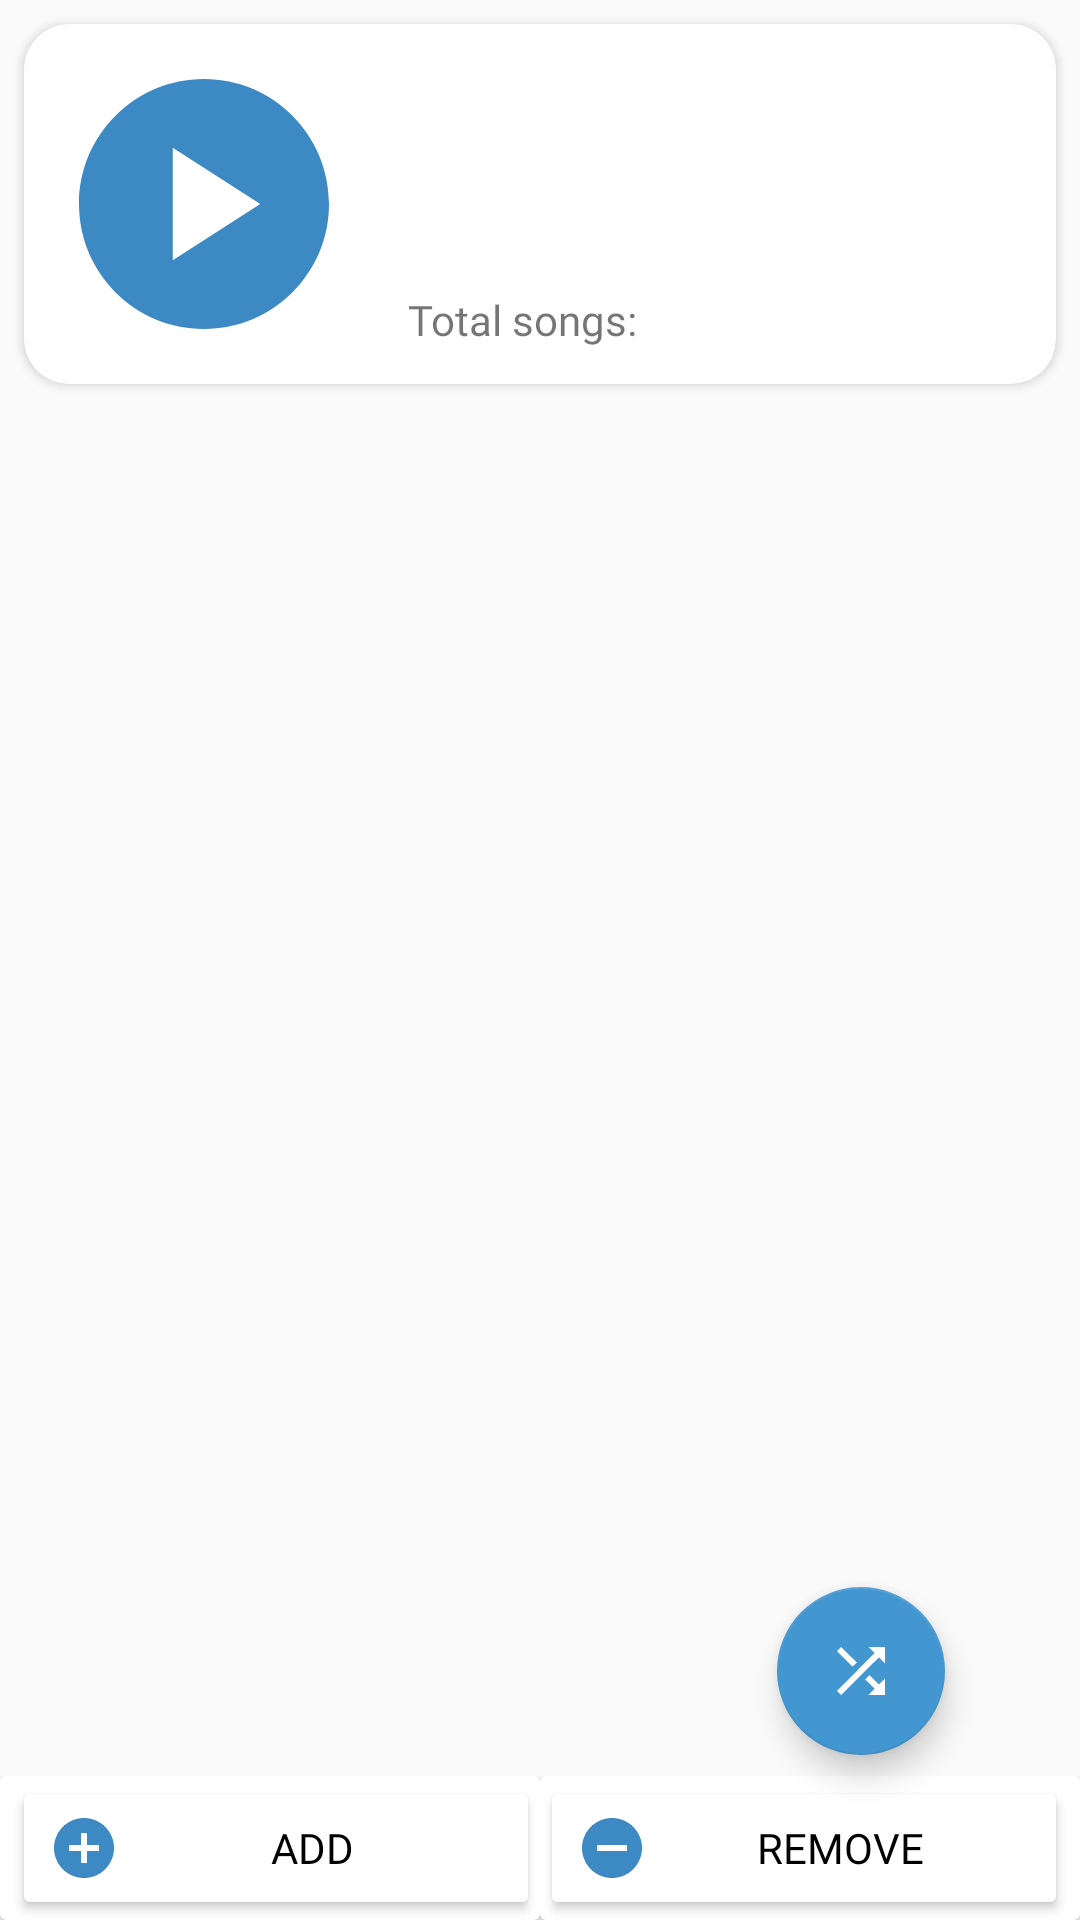

Named icons in this screenshot (1080*1920) and their centers, (x,y):
play circle: (183,180)
shuffle: (861,1671)
